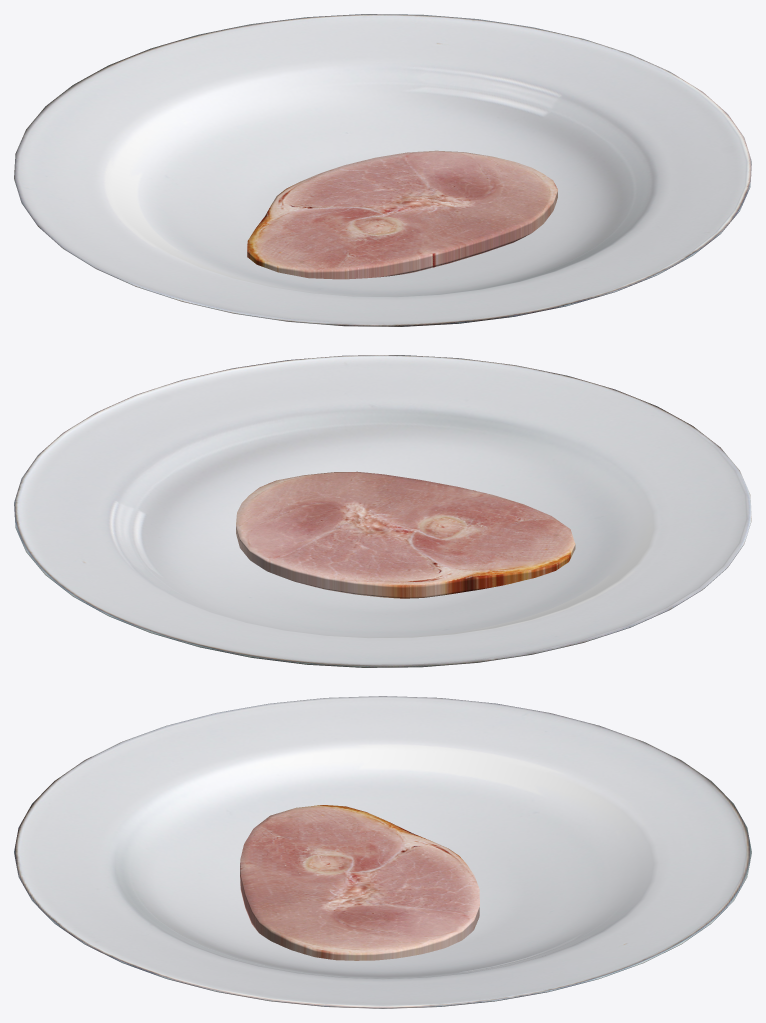
Rendered from ham.fbx.
3 views of the same model, one above another, from view 1: azimuth 30°, elevation 25°; view 2: azimuth 150°, elevation 25°; view 3: azimuth 270°, elevation 25° (orthographic).
Parts seen in each view (by area): view 1: polySurface3; view 2: polySurface3; view 3: polySurface3.
Boxes of the visible parts, x1=… form: polySurface3: x1=14, y1=14, x2=751, y2=326; polySurface3: x1=14, y1=355, x2=751, y2=667; polySurface3: x1=14, y1=696, x2=751, y2=1008.
Bounding box in the file's own units: 21.38 × 1.53 × 21.38.
